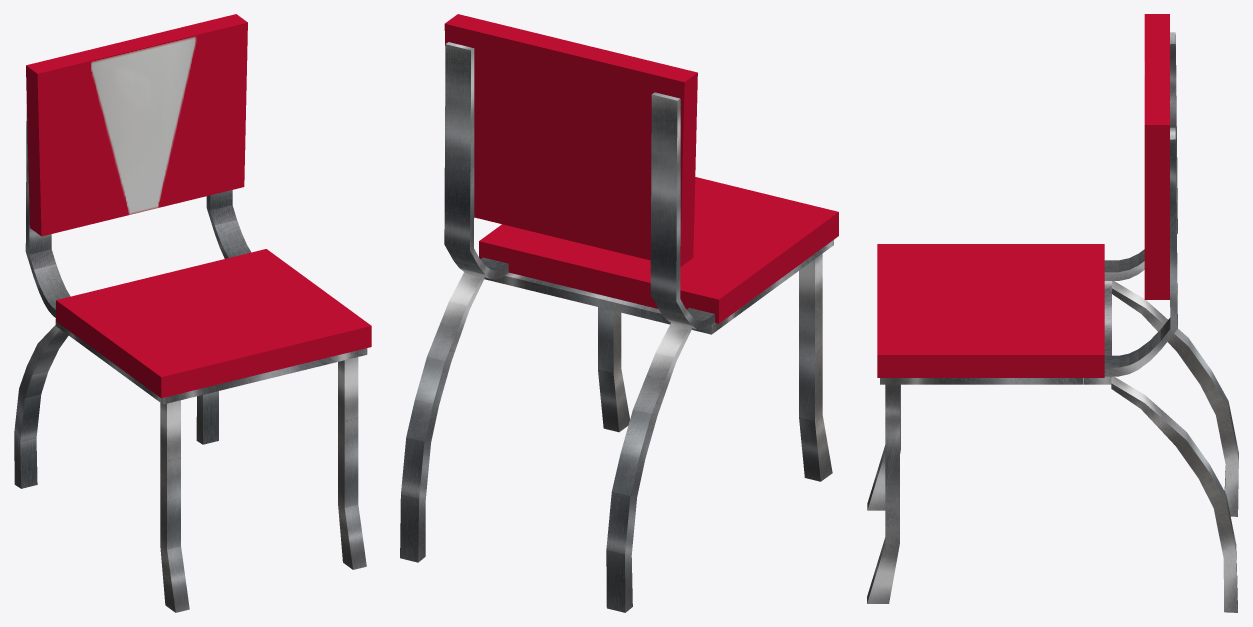
Rendered from 50's Dinner Chair.fbx.
The picture shows the model from 3 angles, left to right: view 1: azimuth 30°, elevation 25°; view 2: azimuth 150°, elevation 25°; view 3: azimuth 270°, elevation 25°; orthographic projection. The views are drawn at different scales.
Visible parts, largest first — view 1: Back Cushion, Red Cushion, Front Right Leg, Front Left Leg, Back Right Leg, Support Back (Right), Metal Thingy, Support Back (Left), Back Left Leg; view 2: Back Cushion, Red Cushion, Back Right Leg, Back Left Leg, Support Back (Left), Support Back (Right), Front Right Leg, Metal Thingy, Front Left Leg; view 3: Red Cushion, Back Cushion, Back Left Leg, Back Right Leg, Front Left Leg, Support Back (Left), Metal Thingy, Support Back (Right), Front Right Leg.
Boxes of the visible parts, x1,y1,x2,y2 form: Back Cushion: (26, 14, 247, 236); Red Cushion: (56, 249, 371, 398); Front Right Leg: (160, 400, 189, 612); Front Left Leg: (338, 357, 366, 569); Back Right Leg: (14, 325, 68, 488); Support Back (Right): (25, 104, 70, 317); Metal Thingy: (55, 319, 367, 404); Support Back (Left): (206, 190, 251, 258); Back Left Leg: (196, 391, 218, 444); Back Cushion: (444, 14, 697, 266); Red Cushion: (479, 177, 838, 323); Back Right Leg: (606, 323, 691, 612); Back Left Leg: (400, 272, 484, 562); Support Back (Left): (444, 42, 508, 279); Support Back (Right): (650, 92, 714, 330); Front Right Leg: (799, 253, 832, 481); Metal Thingy: (484, 240, 833, 334); Front Left Leg: (598, 307, 629, 432); Red Cushion: (877, 244, 1104, 377); Back Cushion: (1144, 14, 1169, 299); Back Left Leg: (1111, 376, 1237, 612); Back Right Leg: (1112, 281, 1238, 516); Front Left Leg: (867, 384, 899, 603); Support Back (Left): (1104, 127, 1177, 376); Metal Thingy: (880, 281, 1111, 384); Support Back (Right): (1104, 32, 1177, 280); Front Right Leg: (867, 384, 900, 510).
Size of the model in its own units: 364 by 715 by 498.
